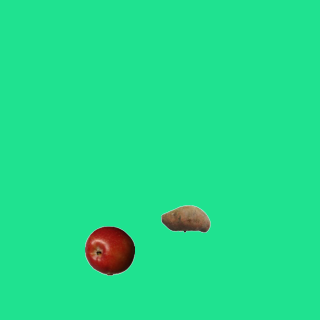Apple Braeburn: (84, 225, 134, 275)
Potato Sweet: (160, 193, 210, 243)
